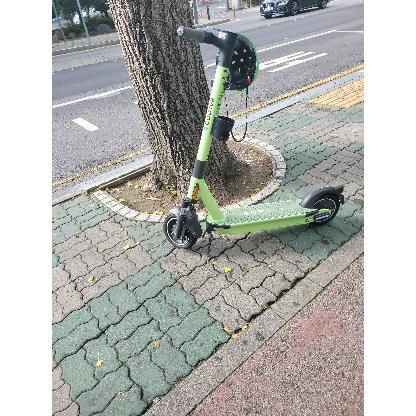bike: (164, 25, 345, 254)
car: (260, 0, 331, 19)
